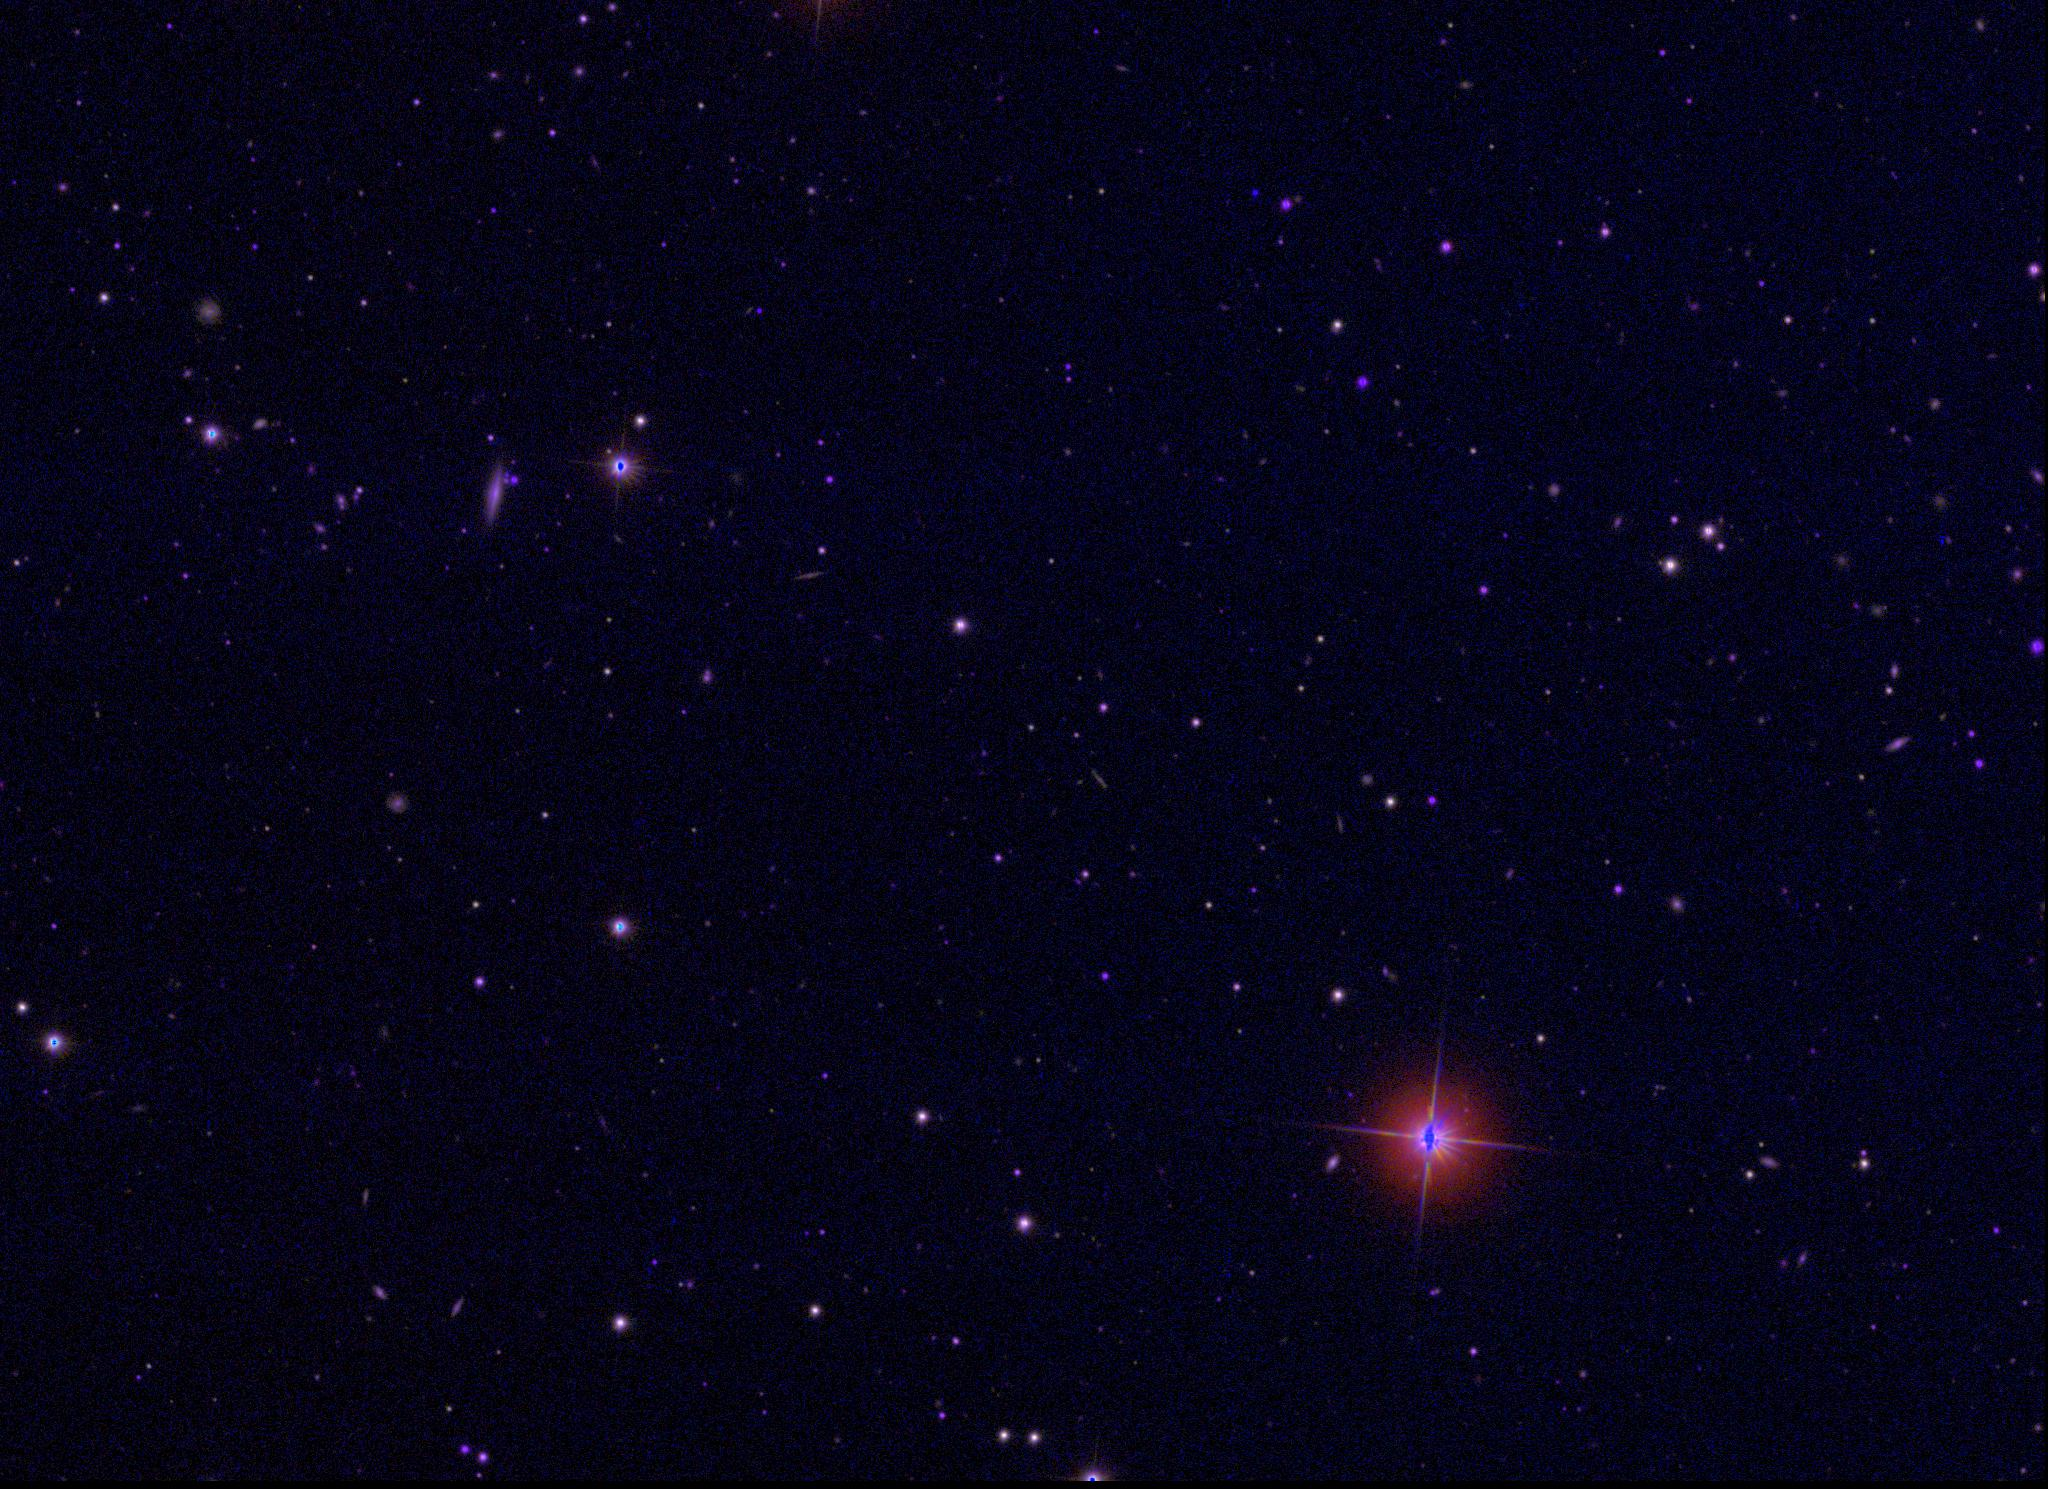L: (1247, 185, 1261, 197)
